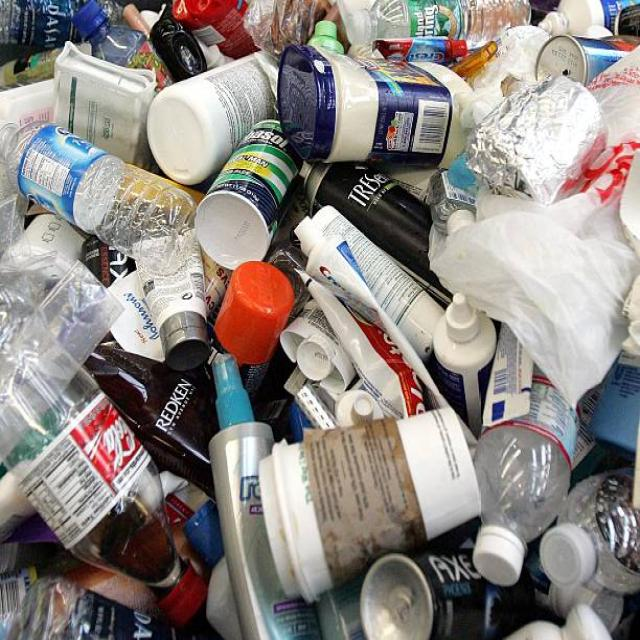metal: (538, 21, 628, 80)
plastic: (18, 132, 610, 600)
trash: (3, 122, 185, 263)
